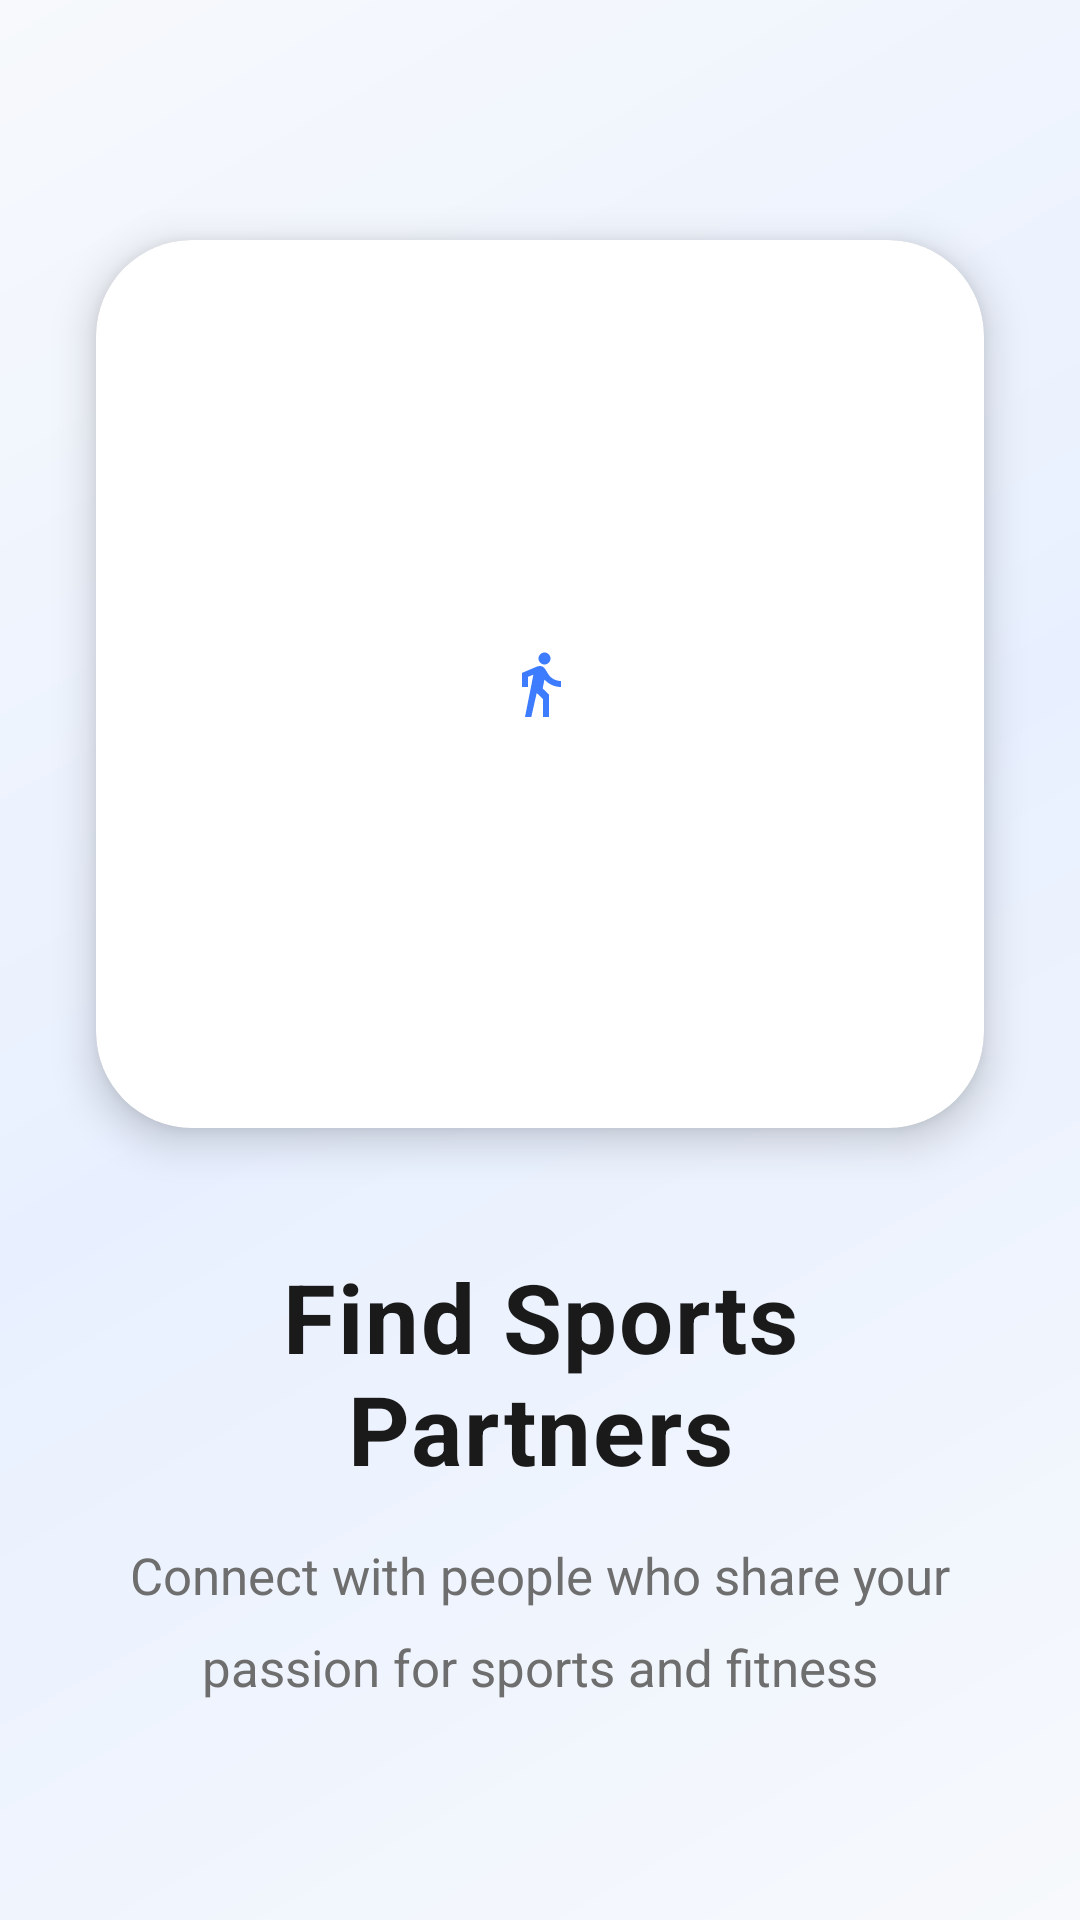

Icons on this 1080 x 1920 Android screen, each with the point to tap as (x,y):
Onboarding illustration: (541,684)
